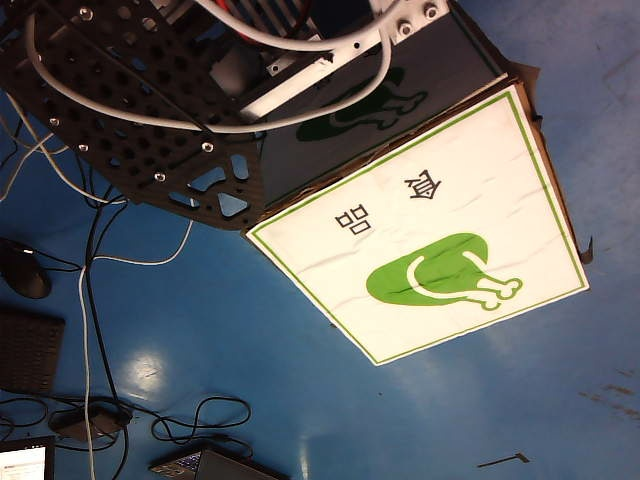Cube_food: (329, 166, 532, 316)
